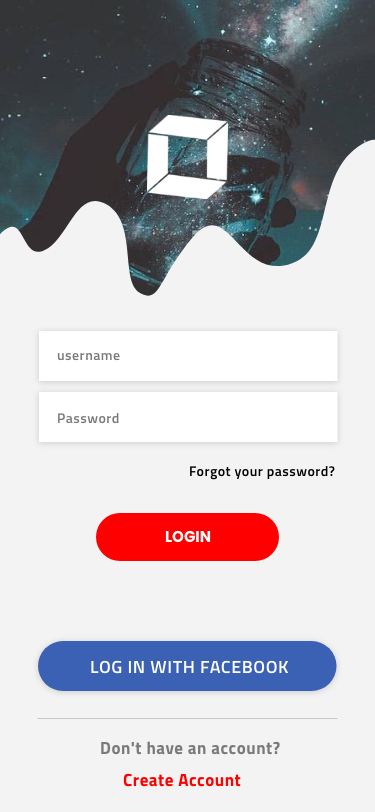EditText: (39, 392, 338, 443), (40, 331, 338, 382)
Image: (1, 1, 375, 297), (147, 115, 229, 200)
Text: (101, 741, 281, 755), (190, 466, 336, 481), (124, 773, 242, 787), (58, 412, 120, 423), (58, 353, 121, 362)
TextButton: (39, 641, 337, 691), (96, 513, 280, 562)
